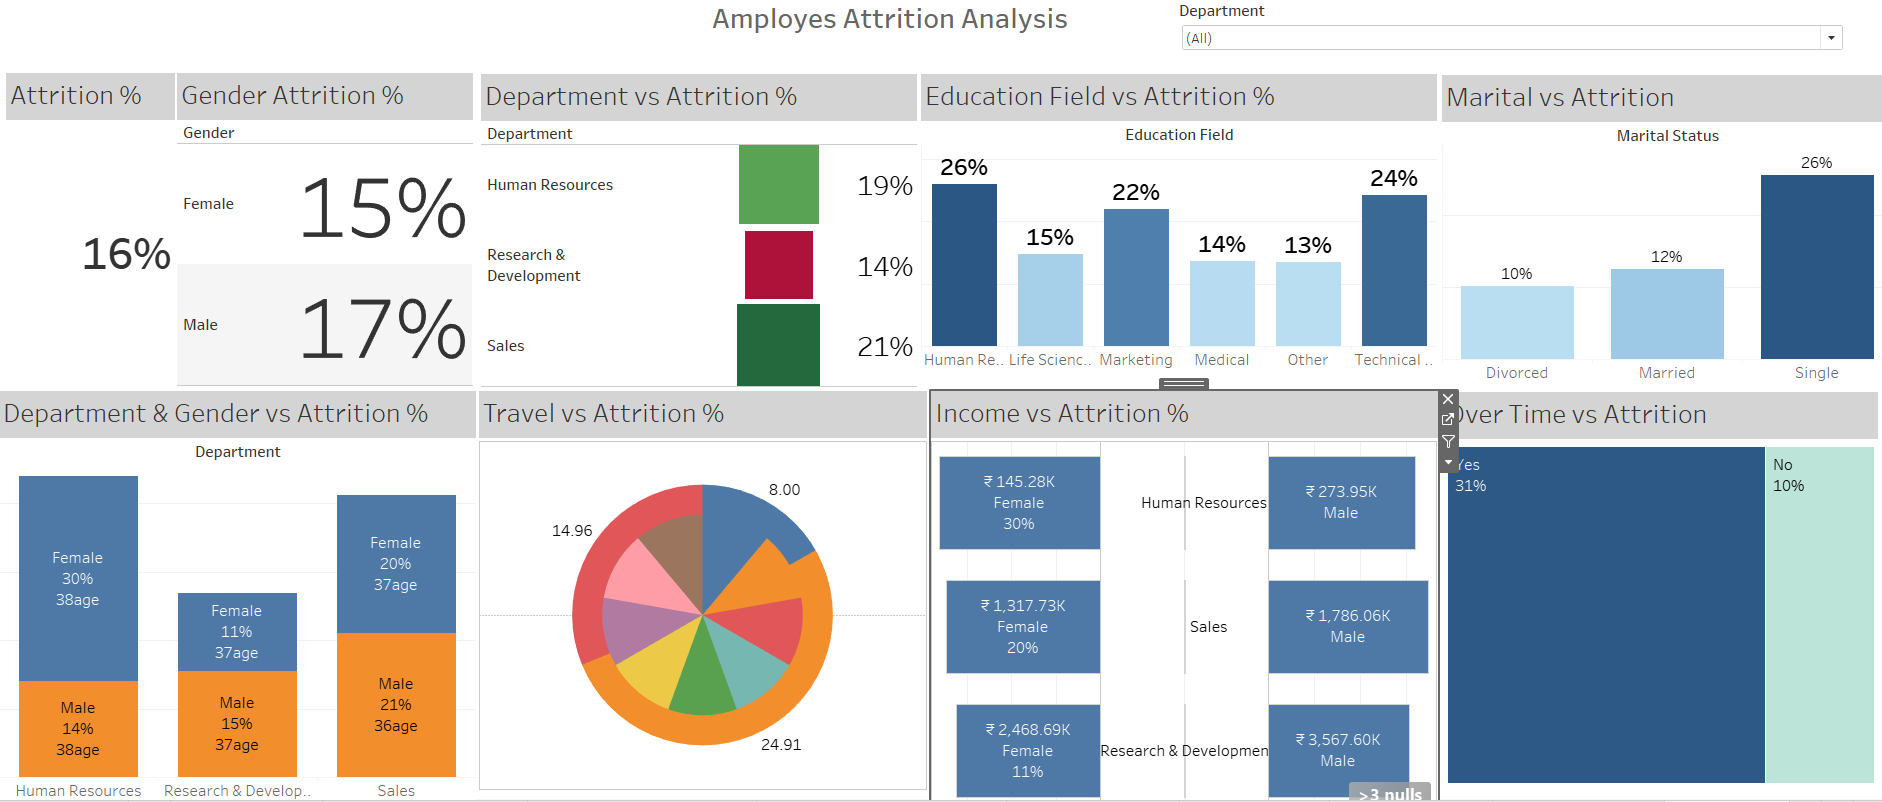

This screenshot's page, from the dashboard's own definition file:
{"tool":"tableau","page":{"name":"Dashboard 1","canvas":[1000,1000],"units":"permille","ordinal":0},"visuals":[{"type":"text","box":[326.1,2.5,293.7,42.4]},{"type":"filter","title":"Department vs Attrition %","param":"[federated.0u3tx1c15nzuup1859wfy0n8at2m].[none:Department:nk]","box":[625.8,2.5,353.1,88.6]},{"type":"worksheet","title":"Attrition %","mark":"Automatic","box":[4.8,93.6,89.5,384.5]},{"type":"worksheet","title":"Gender Attrition %","mark":"Automatic","rows":["Gender"],"box":[95.4,93.6,156.9,390.8]},{"type":"worksheet","title":"Department vs Attrition %","mark":"Automatic","rows":["Department"],"box":[256.5,94.9,231.1,390.8]},{"type":"worksheet","title":"Education Field vs Attrition %","mark":"Automatic","rows":["Calculation_1193453960377556995"],"cols":["EducationField"],"box":[489.4,94.9,273.4,389.5]},{"type":"worksheet","title":"Marital vs Attrition","mark":"Automatic","rows":["Calculation_1193453960377556995"],"cols":["MaritalStatus"],"box":[765.2,96.1,239.6,385.8]},{"type":"worksheet","title":"Travel vs Attrition %","mark":"Pie","rows":["Calculation_184366168915914752","Calculation_184366168915914752"],"box":[255.3,490.6,237.2,498.1]},{"type":"worksheet","title":"Over Time vs Attrition","mark":"Automatic","box":[765.8,491.9,230.5,493.1]}]}

Visuals, with their boxes on the dashboard's canvas, which has no fixed pixel size, in thousandths of its width and height (x1, y1, x2, y2). These are canvas units, not pixel positions in the 1882x802 screenshot, which may show the page scaled, cropped or inside an application window:
text: 326:2:620:45
"Department vs Attrition %" filter: 626:2:979:91
"Attrition %" worksheet: 5:94:94:478
"Gender Attrition %" worksheet: 95:94:252:484
"Department vs Attrition %" worksheet: 256:95:488:486
"Education Field vs Attrition %" worksheet: 489:95:763:484
"Marital vs Attrition" worksheet: 765:96:1005:482
"Travel vs Attrition %" worksheet (Pie marks): 255:491:492:989
"Over Time vs Attrition" worksheet: 766:492:996:985
